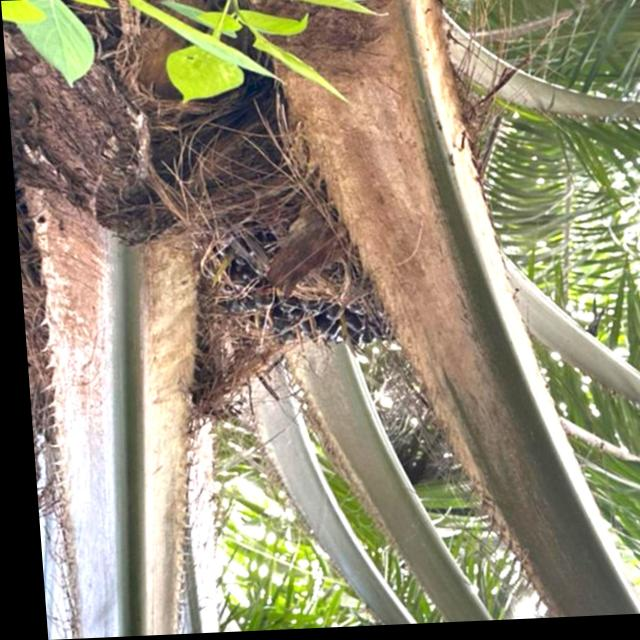almost: (192, 207, 397, 360)
